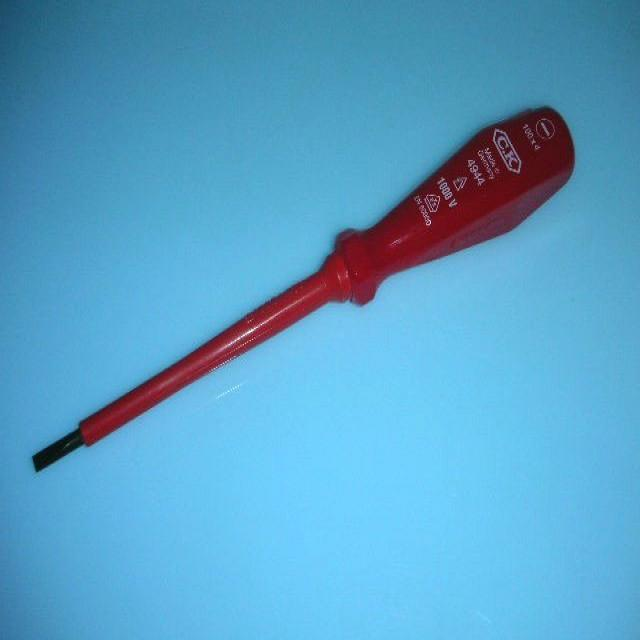screwdriver: (3, 90, 590, 494)
